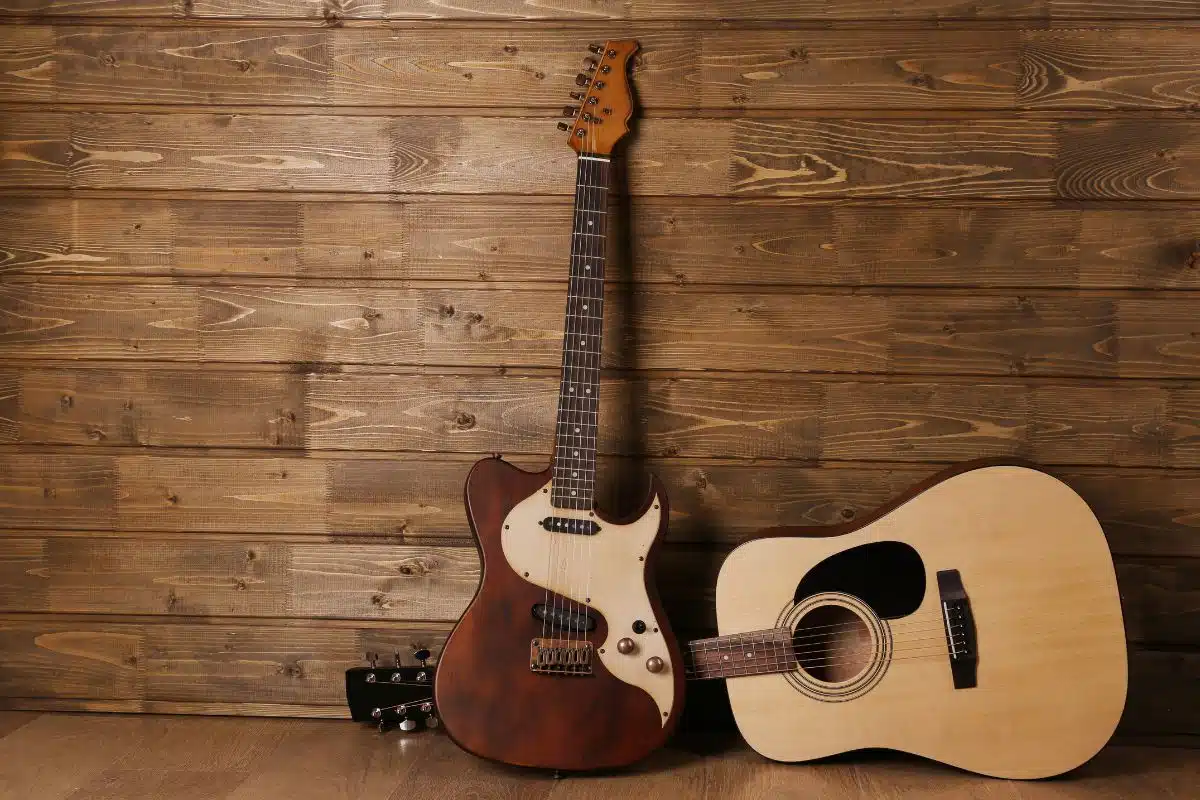guitar: (428, 456, 1139, 779), (434, 35, 689, 776), (696, 461, 1132, 780)
